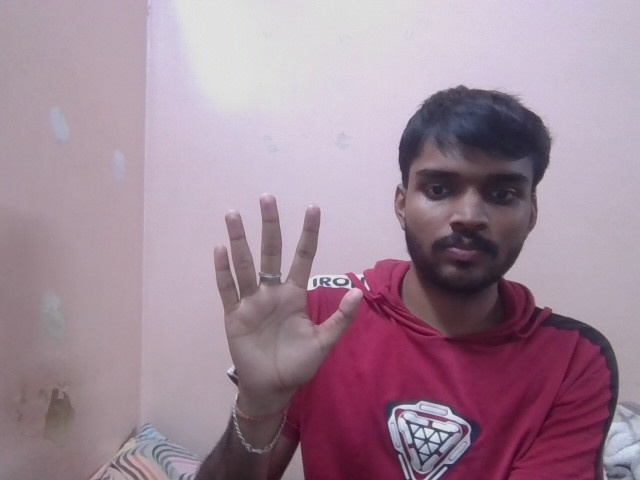Hello: (201, 194, 364, 392)
